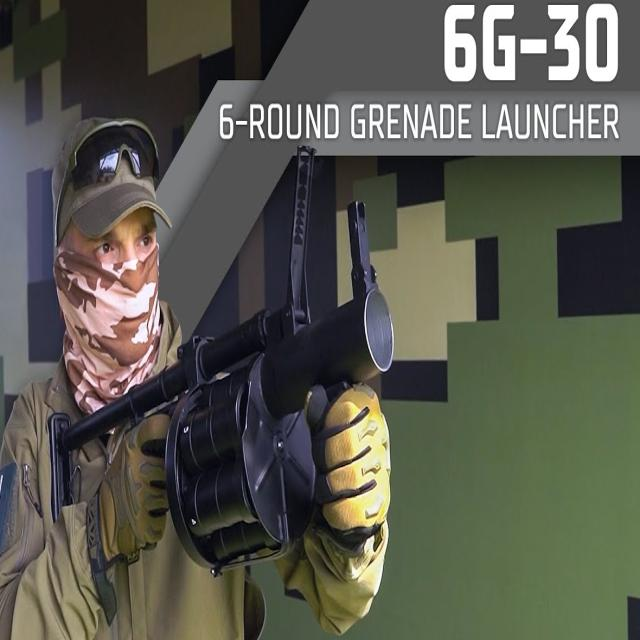Weapon: (49, 146, 394, 576)
